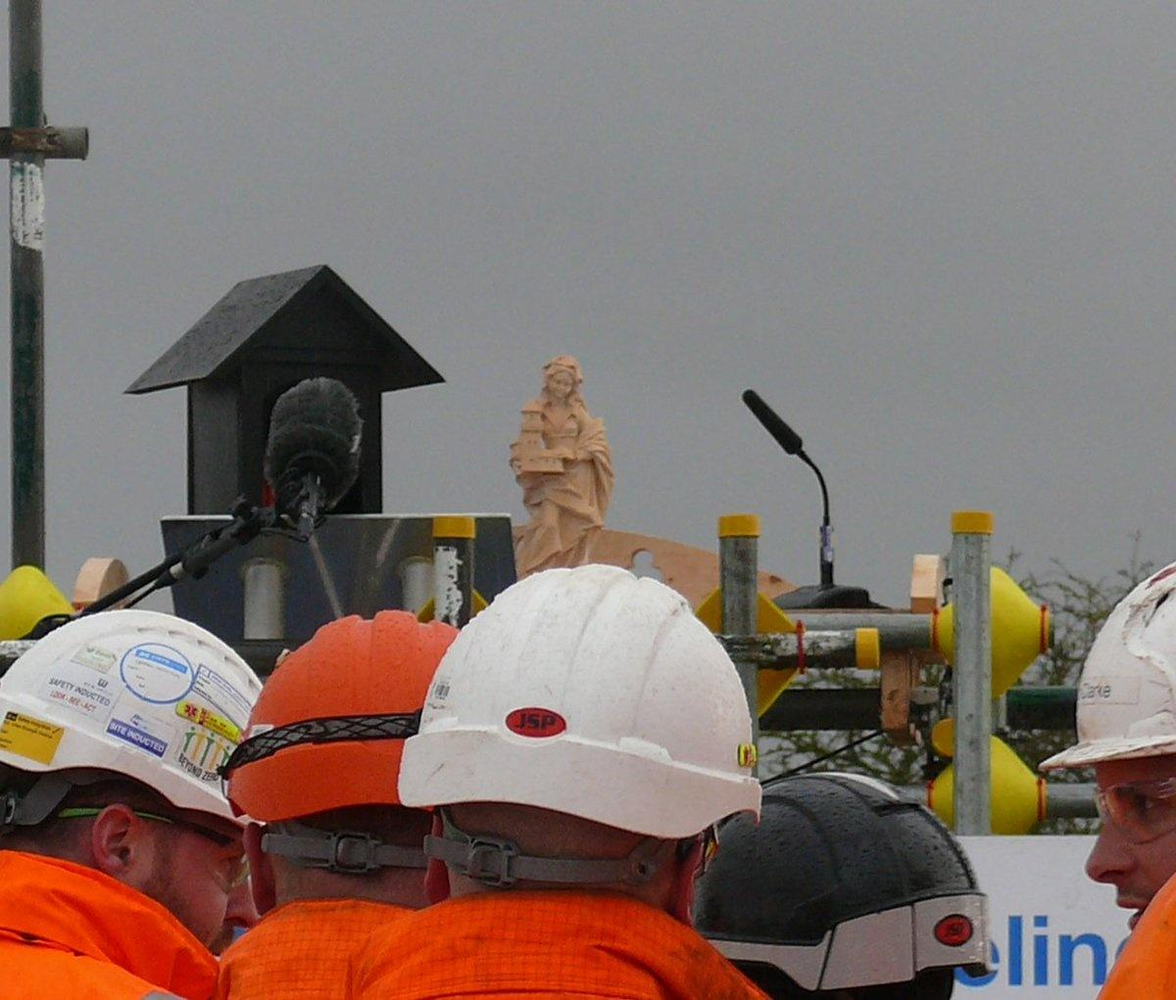Helmet: (422, 563, 758, 893), (7, 611, 259, 918), (250, 607, 471, 905)
